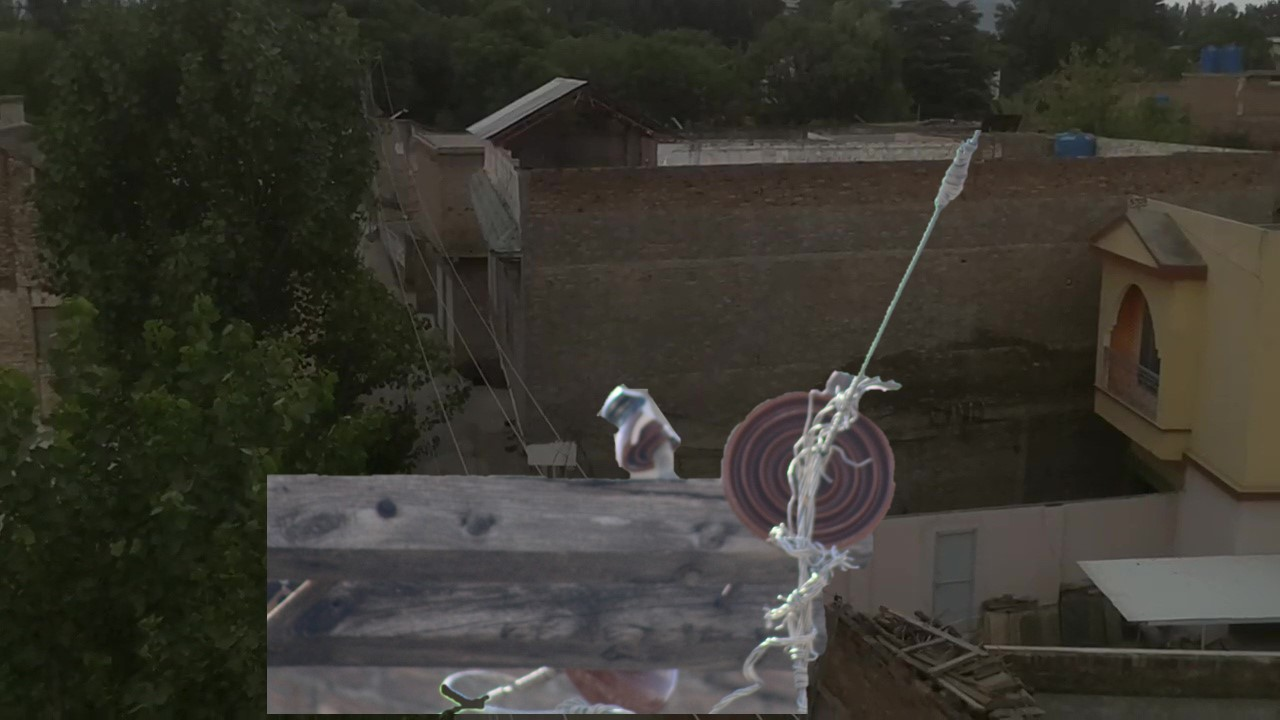defect_pin: (592, 373, 689, 488)
insulator_disc: (716, 379, 905, 565)
